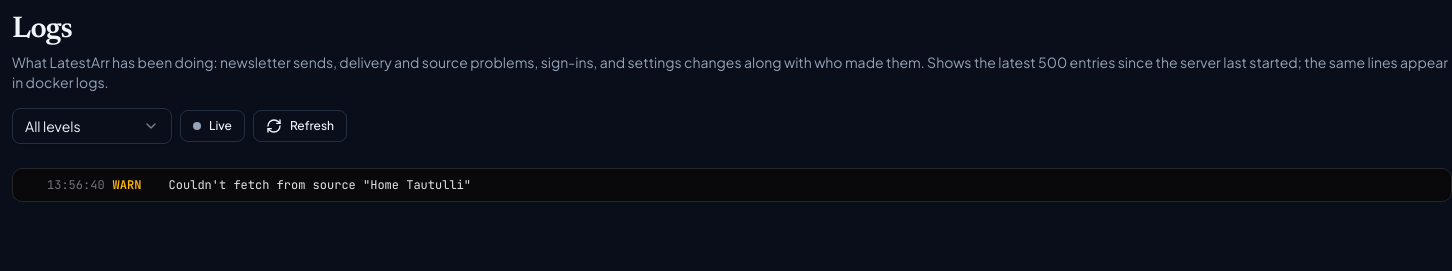
Test: LogsPage › says when there are no warnings or errors under a level filter
Expected: the text "Couldn't fetch from source \"Home Tautulli\"" is shown, [169,177,471,193]
Click the dropdown named "Filter by level" at {"x": 92, "y": 126}, box [12,108,172,144]
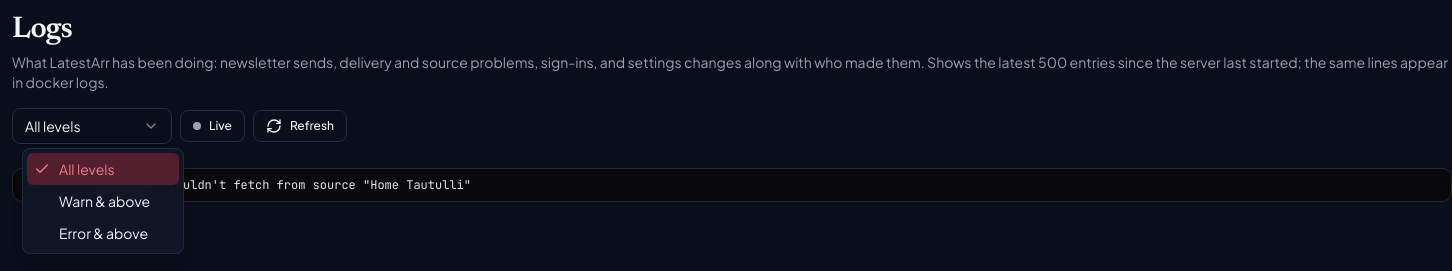
Click the option "Error & above" at {"x": 104, "y": 233}, box [59,224,148,242]
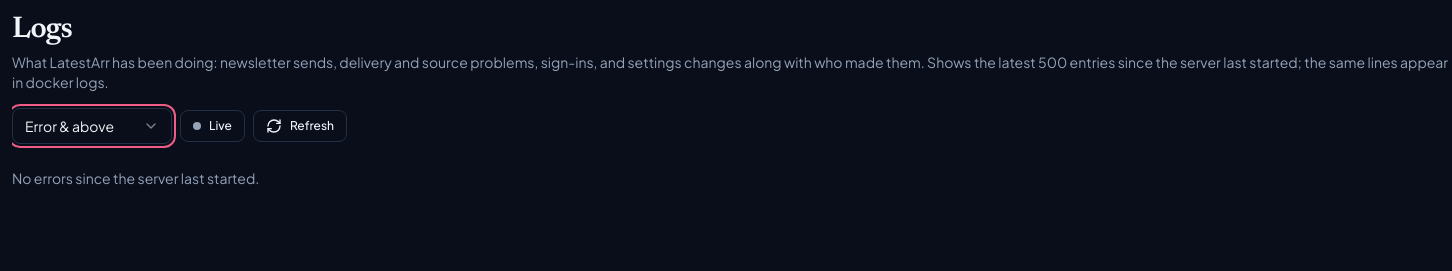
Now the text "No errors since the server last started." is shown, box [12,169,259,187]
